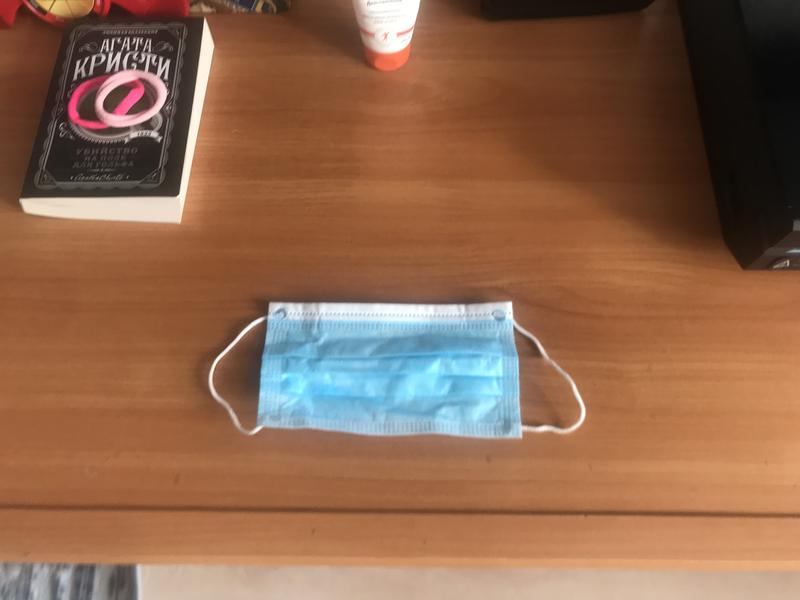medical_mask: (211, 298, 590, 445)
